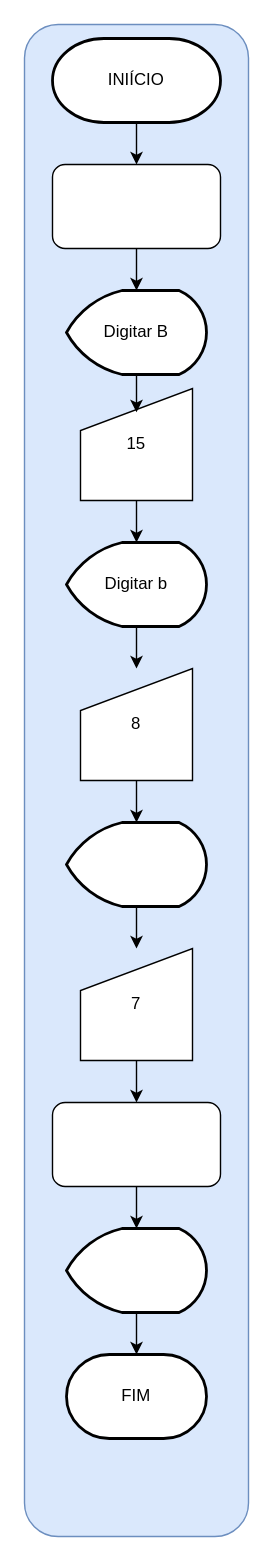
The diagram is 273 pixels wide and 1561 high, and some of its shapes have lost their labels. The shapes that lost their labels are listed below. From the top down, each one's box as (x1, y1, x2, y2) in pixels, then its label:
(51, 163, 220, 248): Int: B,b,h,A
(64, 820, 207, 907): Digitar h
(51, 1101, 220, 1186): A = ( (B + b) * h / 2)
(64, 1226, 207, 1313): A = 80,5 cm²
